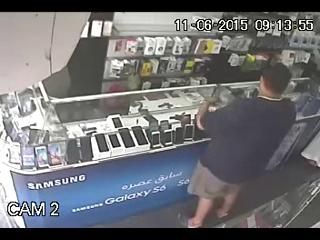Normal: (186, 62, 298, 228)
